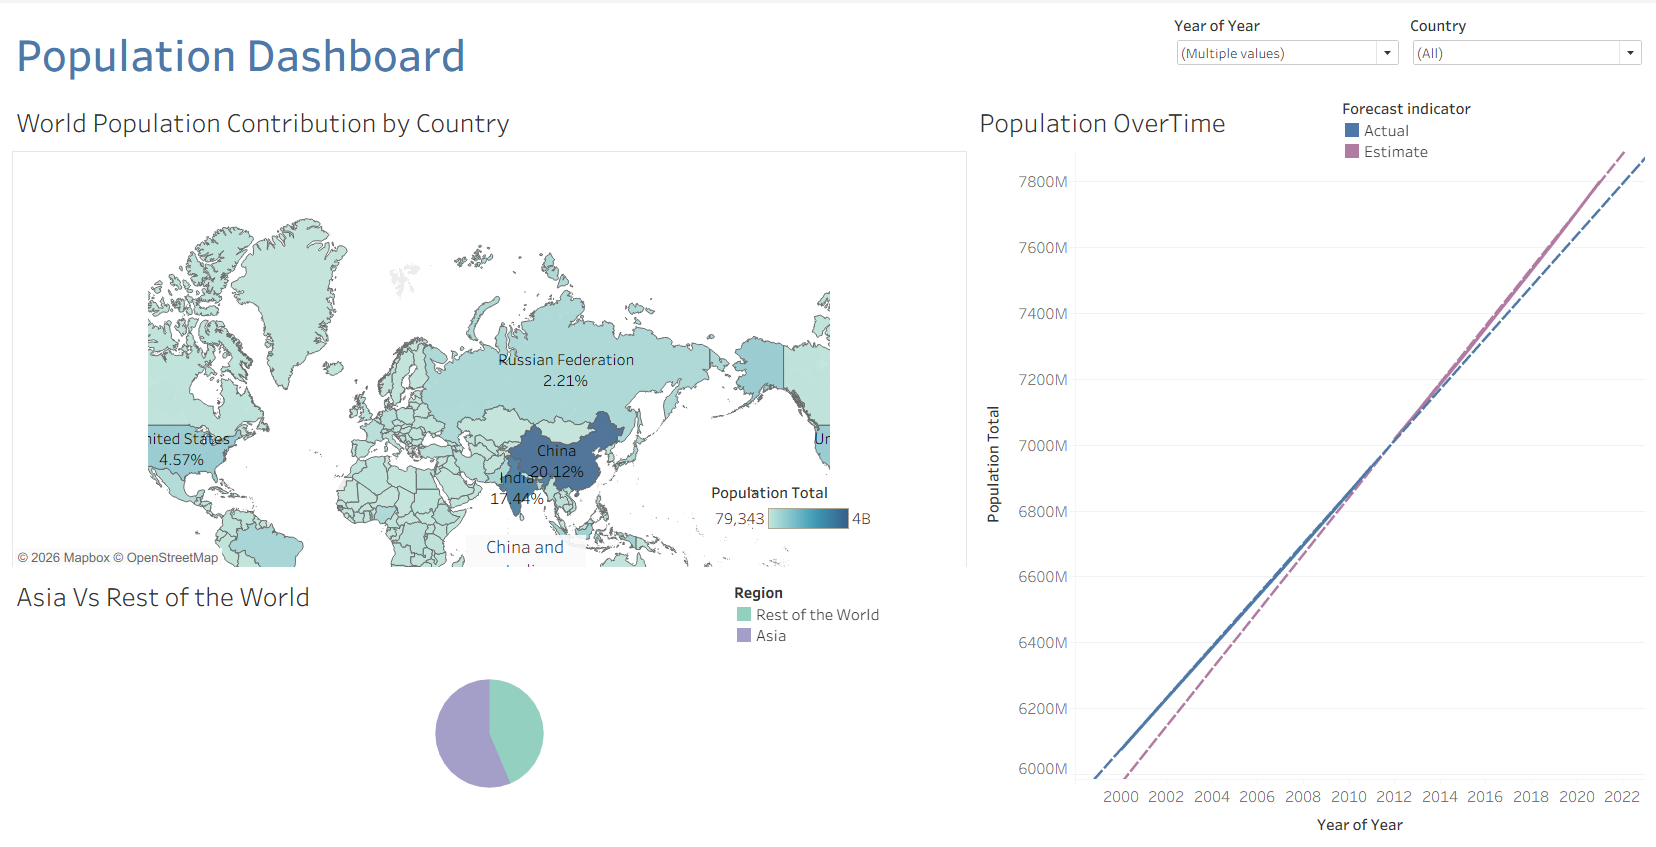

What the dashboard file says about the page in this screenshot:
{"tool":"tableau","page":{"name":"Population Dashboard","canvas":[1000,1000],"units":"permille","ordinal":3},"visuals":[{"type":"text","box":[4.8,9.4,701.2,101]},{"type":"filter","title":"Asia Vs Rest of the World","param":"[federated.1vapjht150gv1h16s4dpv105fy5q].[yr:Year:ok]","box":[706.1,9.4,142.4,101]},{"type":"filter","title":"World Population Contribution by Country","param":"[federated.1vapjht150gv1h16s4dpv105fy5q].[none:Country:nk]","box":[848.5,9.4,146.7,101]},{"type":"worksheet","title":"World Population Contribution by Country","mark":"Multipolygon","box":[4.8,110.4,581,557.6]},{"type":"worksheet","title":"Population OverTime","mark":"Automatic","rows":["Population Total"],"cols":["Year"],"box":[585.8,110.4,409.3,880.2]},{"type":"legend","title":"Population OverTime","param":"[federated.1vapjht150gv1h16s4dpv105fy5q].[none:Forecast Indicator:nk]","box":[809.9,111.6,84.5,75.2]},{"type":"legend","title":"World Population Contribution by Country","param":"[federated.1vapjht150gv1h16s4dpv105fy5q].[sum:Population Total:qk]","box":[429.1,562.9,99.6,77.6]},{"type":"worksheet","title":"Asia Vs Rest of the World","mark":"Pie","box":[4.8,668,581,322.6]},{"type":"legend","title":"Asia Vs Rest of the World","param":"[federated.1vapjht150gv1h16s4dpv105fy5q].[Region (group)]","box":[443,680.4,91.1,75.2]}]}

Visuals, with their boxes on the dashboard's canvas, which has no fixed pixel size, in thousandths of its width and height (x1, y1, x2, y2). These are canvas units, not pixel positions in the 1656x847 screenshot, which may show the page scaled, cropped or inside an application window:
text: 5, 9, 706, 110
"Asia Vs Rest of the World" filter: 706, 9, 848, 110
"World Population Contribution by Country" filter: 848, 9, 995, 110
"World Population Contribution by Country" worksheet (Multipolygon marks): 5, 110, 586, 668
"Population OverTime" worksheet: 586, 110, 995, 991
"Population OverTime" legend: 810, 112, 894, 187
"World Population Contribution by Country" legend: 429, 563, 529, 640
"Asia Vs Rest of the World" worksheet (Pie marks): 5, 668, 586, 991
"Asia Vs Rest of the World" legend: 443, 680, 534, 756
